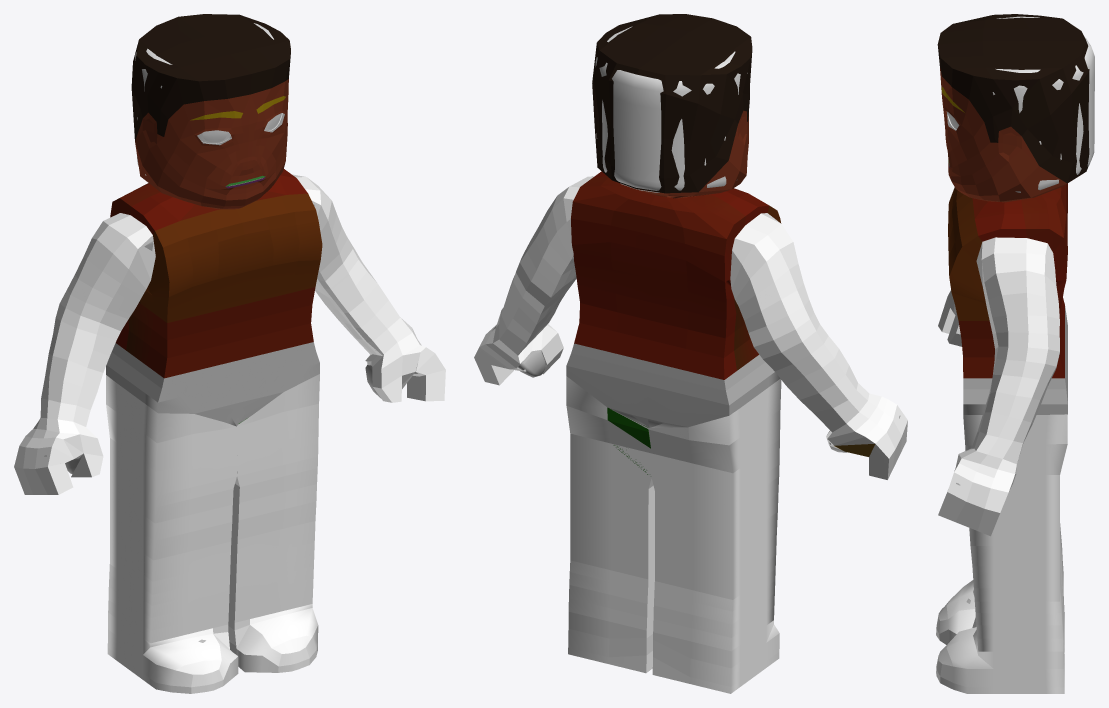
The model's file is ClassicMannequin_With-Cages.fbx.
The picture shows the model from 3 angles, left to right: view 1: azimuth 30°, elevation 25°; view 2: azimuth 150°, elevation 25°; view 3: azimuth 270°, elevation 25°; orthographic projection.
Visible parts, largest first — view 1: UpperTorso_OuterCage, Head_OuterCage, RightUpperLeg_OuterCage, LeftUpperLeg_OuterCage, RightLowerLeg_OuterCage, LowerTorso_OuterCage, RightUpperArm_OuterCage, LeftLowerLeg_OuterCage, RightFoot_OuterCage, RightLowerArm_OuterCage, LeftLowerArm_OuterCage, RightHand_OuterCage (+4 smaller); view 2: UpperTorso_OuterCage, Head_OuterCage, RightUpperLeg_OuterCage, RightLowerLeg_OuterCage, LowerTorso_OuterCage, LeftUpperLeg_OuterCage, RightUpperArm_OuterCage, LeftLowerLeg_OuterCage, Head_Geo, RightLowerArm_OuterCage, RightFoot_OuterCage, LeftUpperArm_OuterCage (+5 smaller); view 3: Head_OuterCage, UpperTorso_OuterCage, LeftUpperLeg_OuterCage, LeftUpperArm_OuterCage, LeftLowerLeg_OuterCage, LeftLowerArm_OuterCage, LeftFoot_OuterCage, LeftHand_OuterCage, Head_Geo, LowerTorso_OuterCage, RightFoot_OuterCage, RightHand_OuterCage.
Boxes of the visible parts, left/top/right/bottom form: UpperTorso_OuterCage: left=110, top=169, right=322, bottom=378; Head_OuterCage: left=131, top=14, right=290, bottom=209; RightUpperLeg_OuterCage: left=106, top=375, right=237, bottom=560; LeftUpperLeg_OuterCage: left=231, top=374, right=319, bottom=539; RightLowerLeg_OuterCage: left=108, top=529, right=231, bottom=643; LowerTorso_OuterCage: left=106, top=342, right=319, bottom=426; RightUpperArm_OuterCage: left=59, top=213, right=155, bottom=330; LeftLowerLeg_OuterCage: left=228, top=521, right=315, bottom=622; RightFoot_OuterCage: left=107, top=612, right=238, bottom=693; RightLowerArm_OuterCage: left=40, top=304, right=120, bottom=426; LeftLowerArm_OuterCage: left=315, top=240, right=412, bottom=355; RightHand_OuterCage: left=14, top=418, right=103, bottom=494; UpperTorso_OuterCage: left=571, top=171, right=781, bottom=379; Head_OuterCage: left=592, top=14, right=752, bottom=195; RightUpperLeg_OuterCage: left=648, top=379, right=781, bottom=564; RightLowerLeg_OuterCage: left=653, top=533, right=776, bottom=651; LowerTorso_OuterCage: left=566, top=343, right=780, bottom=427; LeftUpperLeg_OuterCage: left=566, top=376, right=654, bottom=543; RightUpperArm_OuterCage: left=730, top=213, right=814, bottom=346; LeftLowerLeg_OuterCage: left=568, top=525, right=654, bottom=630; Head_Geo: left=595, top=26, right=747, bottom=192; RightLowerArm_OuterCage: left=754, top=313, right=869, bottom=432; RightFoot_OuterCage: left=652, top=620, right=779, bottom=693; LeftUpperArm_OuterCage: left=520, top=176, right=594, bottom=297; Head_OuterCage: left=937, top=14, right=1089, bottom=202; UpperTorso_OuterCage: left=948, top=183, right=1067, bottom=378; LeftUpperLeg_OuterCage: left=963, top=414, right=1067, bottom=566; LeftUpperArm_OuterCage: left=976, top=237, right=1059, bottom=351; LeftLowerLeg_OuterCage: left=972, top=565, right=1063, bottom=651; LeftLowerArm_OuterCage: left=971, top=346, right=1059, bottom=464; LeftFoot_OuterCage: left=936, top=627, right=1064, bottom=693; LeftHand_OuterCage: left=938, top=448, right=1016, bottom=536; Head_Geo: left=946, top=16, right=1094, bottom=192; LowerTorso_OuterCage: left=963, top=306, right=1067, bottom=414; RightFoot_OuterCage: left=936, top=580, right=1064, bottom=652; RightHand_OuterCage: left=938, top=290, right=961, bottom=346.
Bounding box in the file's own units: 3.55 × 5 × 1.18.
